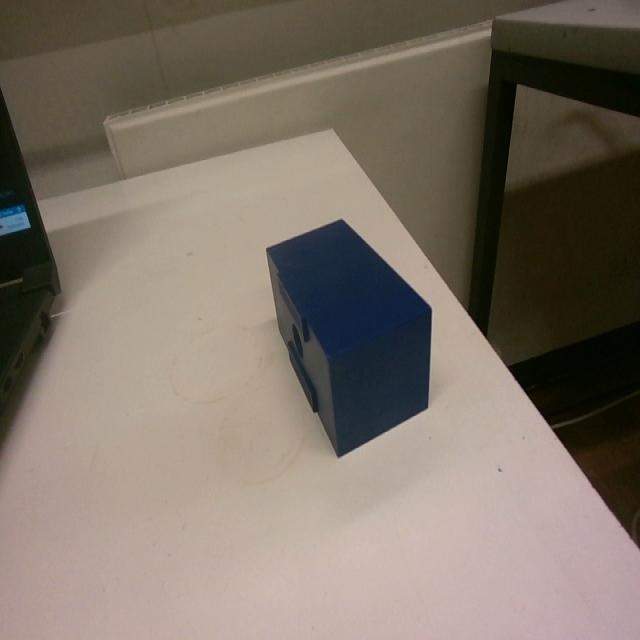Blue Cuboid: (263, 215, 433, 457)
